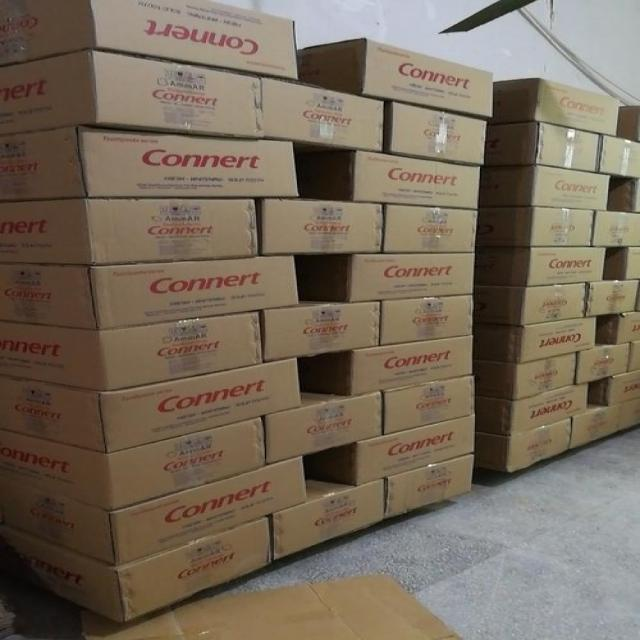box: (0, 458, 308, 562), (2, 514, 276, 623), (4, 356, 306, 451), (2, 415, 266, 507), (4, 0, 297, 81), (0, 48, 266, 136), (0, 125, 302, 201), (0, 254, 301, 325), (2, 311, 264, 389), (0, 194, 265, 264), (293, 38, 495, 118), (297, 417, 478, 486), (300, 146, 484, 209), (290, 334, 474, 395), (266, 478, 389, 559), (300, 250, 477, 302), (265, 388, 383, 464), (263, 77, 386, 148), (259, 292, 383, 362), (490, 78, 622, 136), (381, 100, 495, 165), (259, 197, 383, 253), (382, 453, 477, 519), (488, 119, 605, 170), (472, 381, 585, 433), (469, 242, 605, 285), (478, 164, 608, 207), (381, 379, 478, 435), (472, 318, 595, 361), (477, 417, 569, 473), (466, 282, 590, 323), (473, 351, 578, 398), (380, 292, 474, 344), (477, 206, 595, 246), (382, 204, 476, 251), (563, 400, 639, 451), (583, 278, 639, 314), (578, 343, 629, 382), (588, 369, 639, 406), (594, 209, 639, 246), (605, 132, 639, 178), (591, 313, 639, 343), (605, 172, 639, 212), (601, 245, 639, 279), (621, 342, 639, 372), (623, 106, 638, 141)
